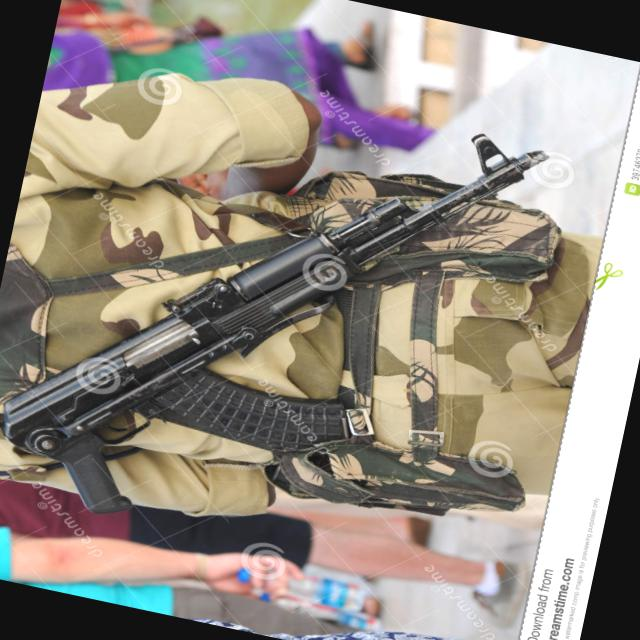long weapon: (9, 36, 534, 572)
